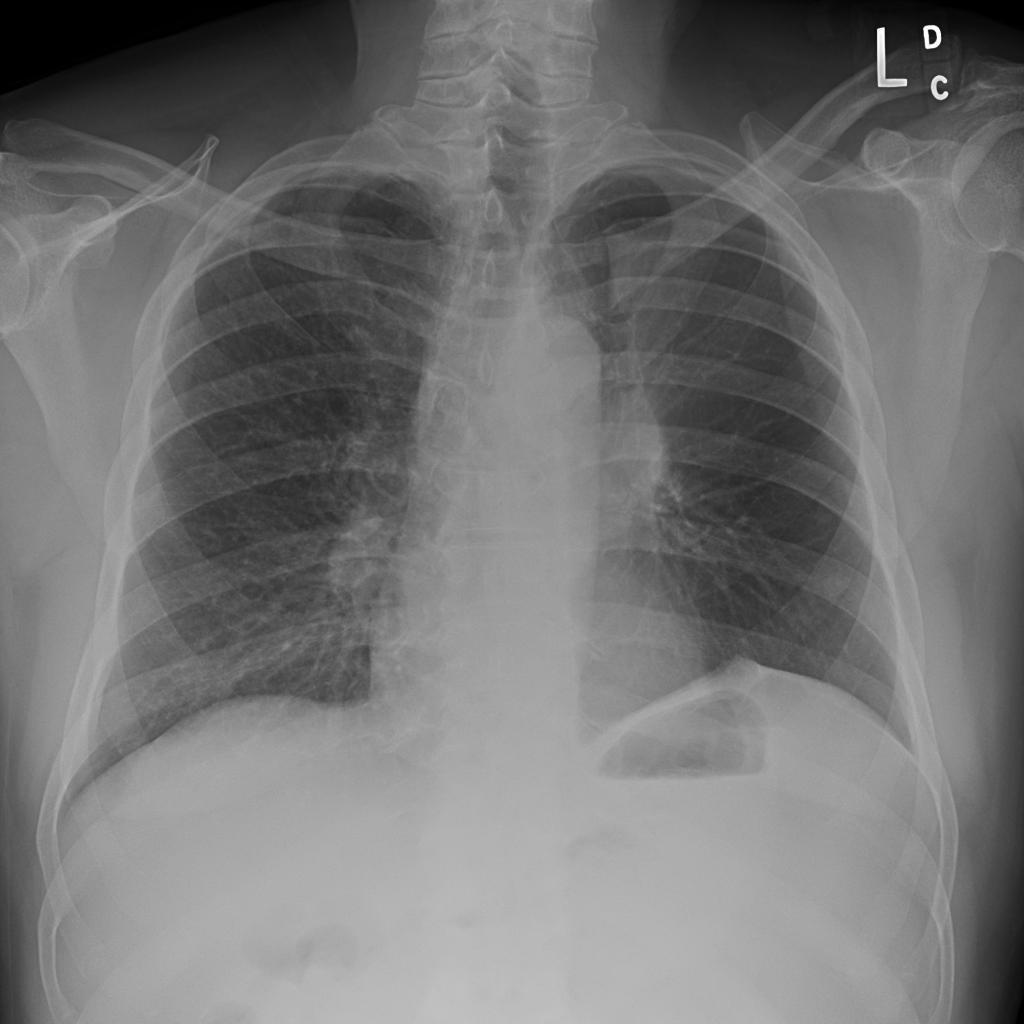Nodule: (421, 235, 453, 276), (411, 277, 440, 314)
